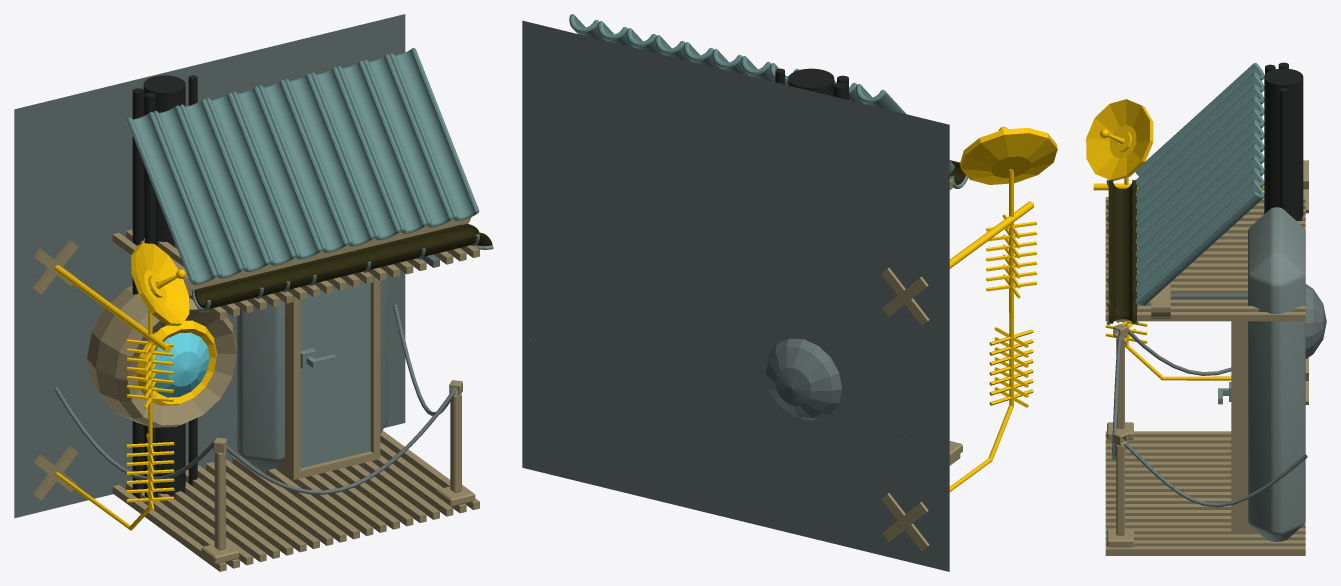
The picture shows the model from 3 angles, left to right: view 1: azimuth 30°, elevation 25°; view 2: azimuth 150°, elevation 25°; view 3: azimuth 270°, elevation 25°; orthographic projection. The views are drawn at different scales.
Visible parts, largest first — view 1: Cube.006; view 2: Cube.006; view 3: Cube.006.
Part boxes in pixels (x1,y1,x2,y2): Cube.006: [14, 14, 493, 571]; Cube.006: [522, 14, 1057, 571]; Cube.006: [1086, 62, 1326, 555].
Size of the model in its own units: 100 by 100 by 57.34.
